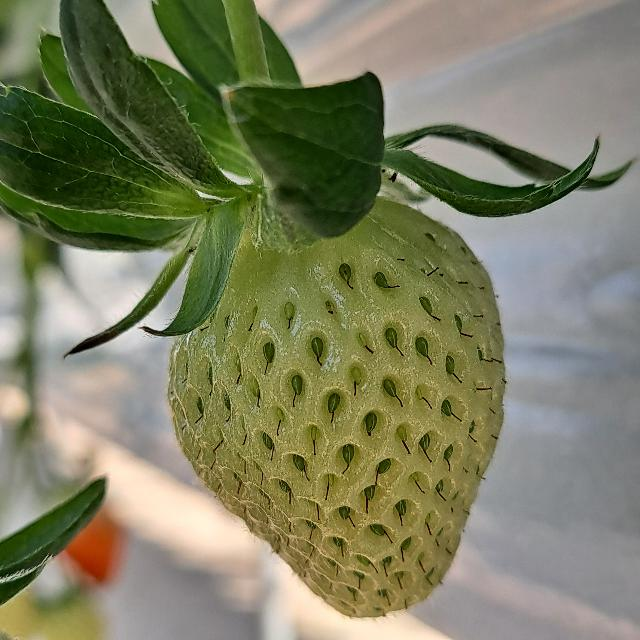Health_25: (167, 197, 505, 618)
